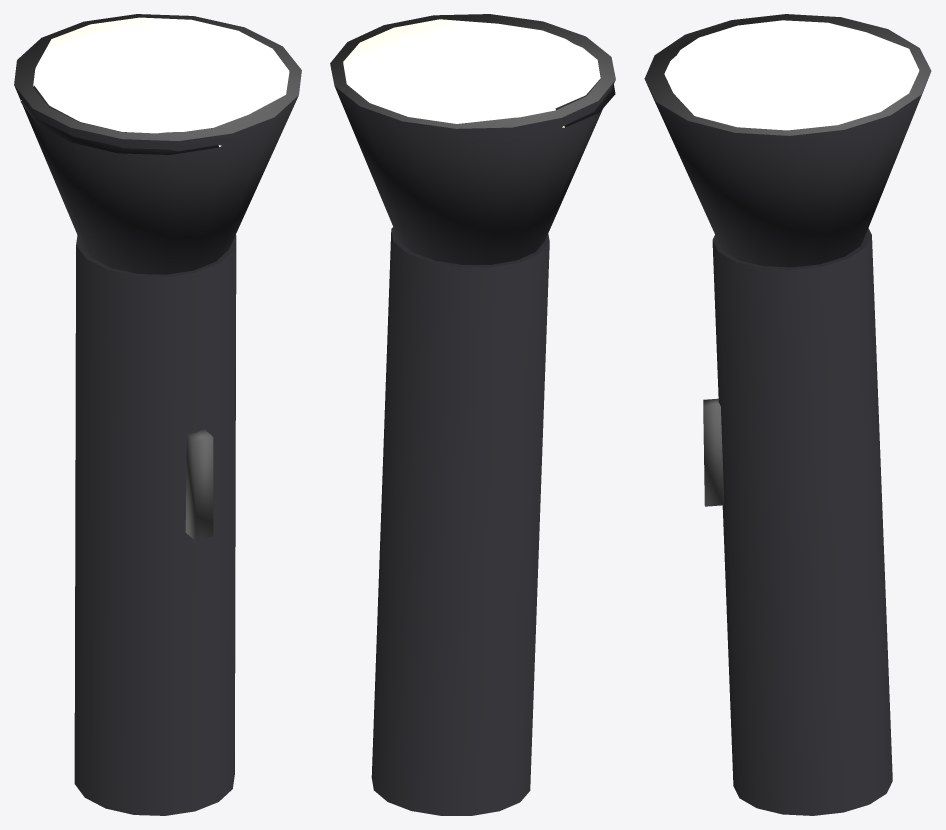
Rendered from FlashlightModel.fbx.
3 views of the same model, side by side, from view 1: azimuth 30°, elevation 25°; view 2: azimuth 150°, elevation 25°; view 3: azimuth 270°, elevation 25° (orthographic).
Parts seen in each view (by area): view 1: Flashlight; view 2: Flashlight; view 3: Flashlight.
Part boxes in pixels (x1,y1,x2,y2): Flashlight: (14, 14, 301, 815); Flashlight: (330, 14, 615, 815); Flashlight: (644, 14, 931, 815).
Size of the model in its own units: 43.2 by 118 by 43.19.
